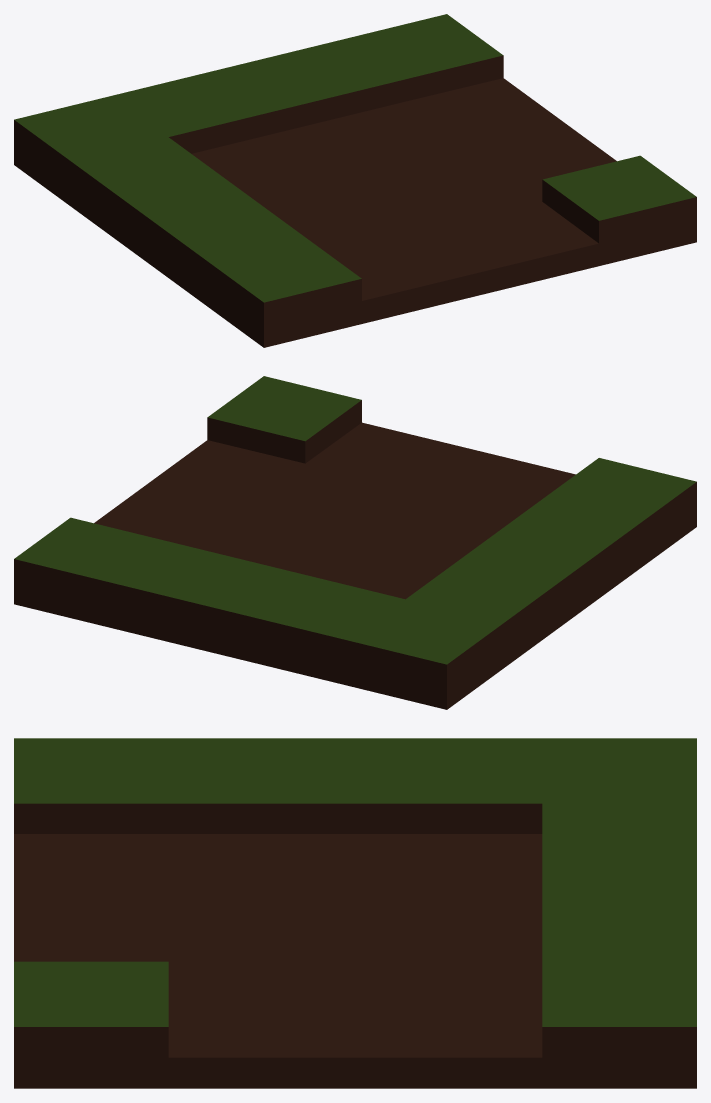
Rendered from tuileHPCourbe (1).fbx.
The picture shows the model from 3 angles, top to bottom: view 1: azimuth 30°, elevation 25°; view 2: azimuth 150°, elevation 25°; view 3: azimuth 270°, elevation 25°; orthographic projection. The views are drawn at different scales.
Parts seen in each view (by area): view 1: tuileCourbe; view 2: tuileCourbe; view 3: tuileCourbe.
Part boxes in pixels (x1,y1,x2,y2): tuileCourbe: [14, 14, 696, 347]; tuileCourbe: [14, 376, 696, 709]; tuileCourbe: [14, 738, 696, 1088].
Bounding box in the file's own units: 20 × 2 × 20.
